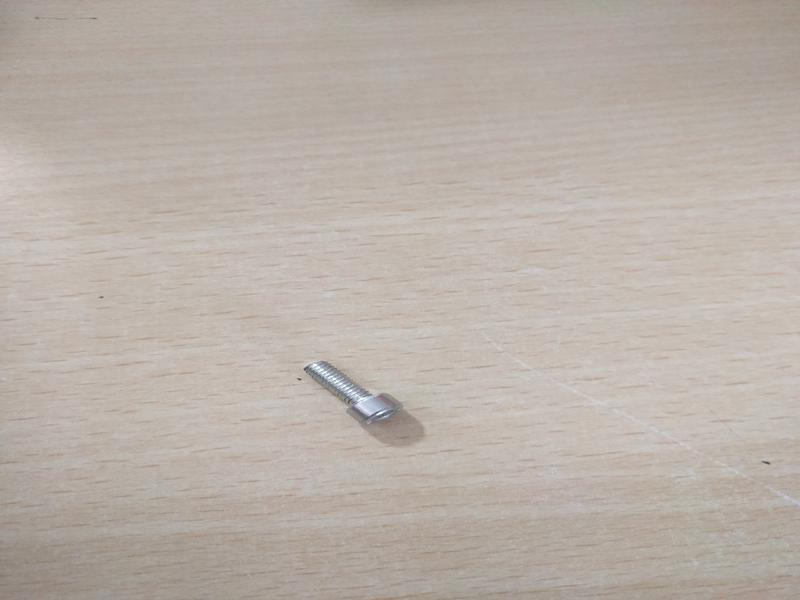smallscrew: (286, 353, 433, 457)
